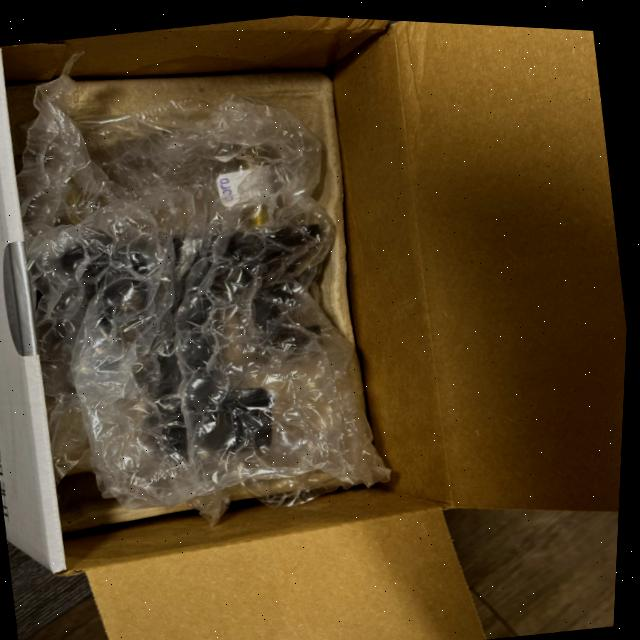9c: (19, 76, 389, 516)
